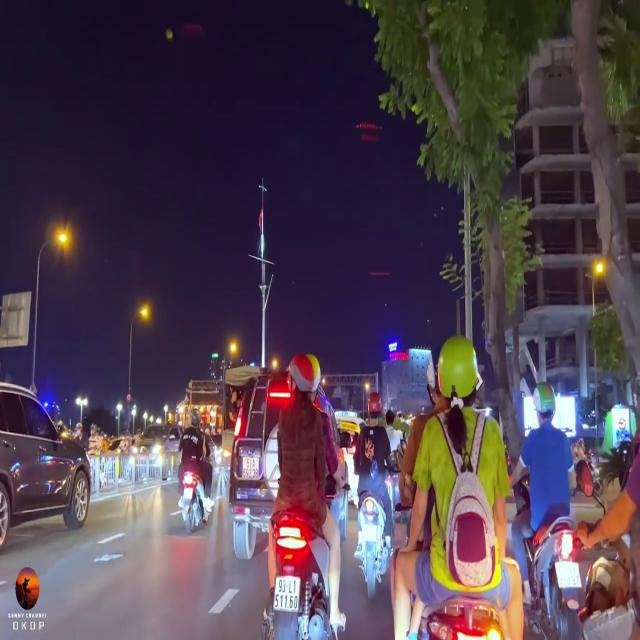bien_trang: (272, 575, 304, 617), (241, 455, 262, 484)
